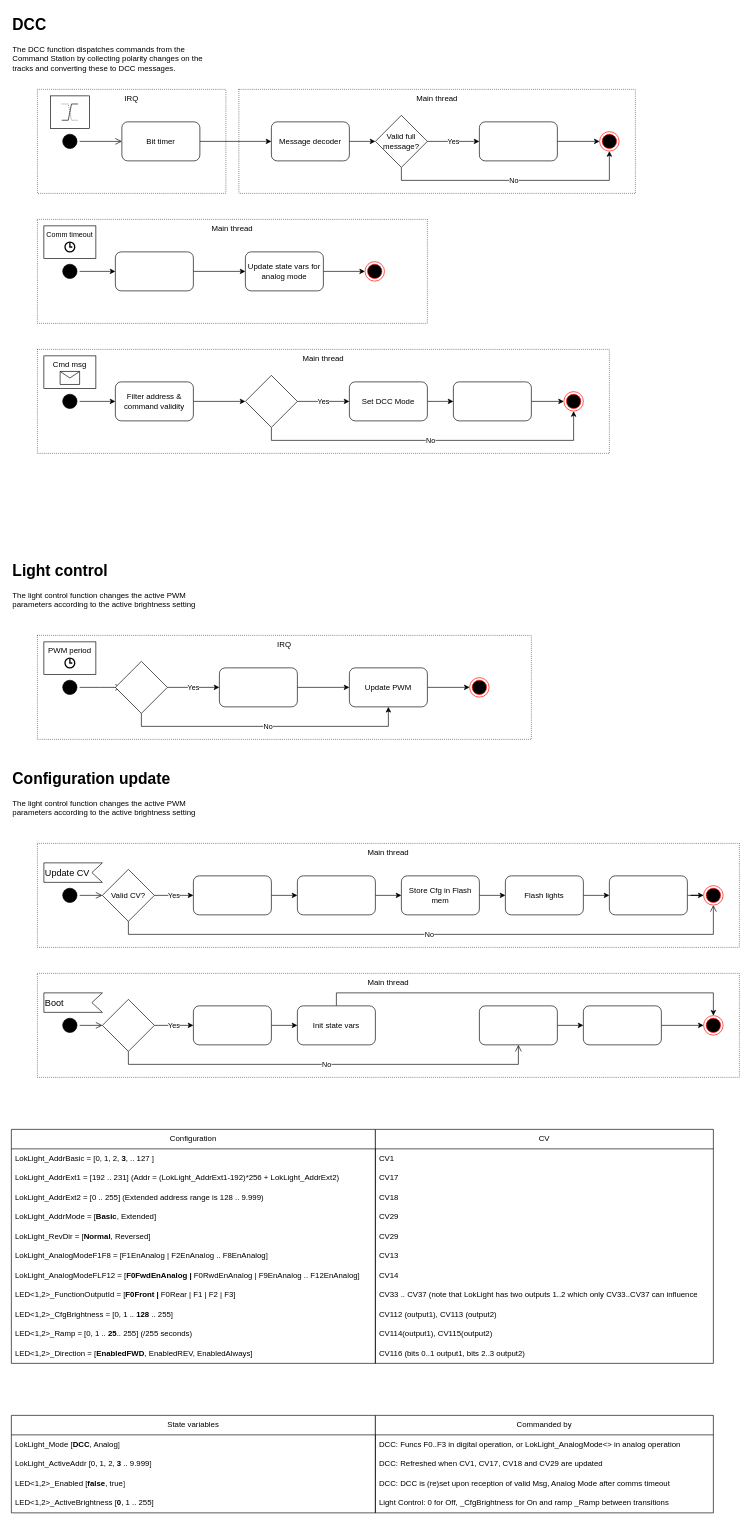
Image size: 751x1524. Some labels were removed from this diagram. The centre of each missing label's shape, as x and y in pixels:
"Disable light control and IRQs" goes at [232,895].
"Dispatch" goes at [518,141].
"Enable IRQs and light control" goes at [648,895].
"Execute command -> update state vars -> write CV" goes at [492,401].
"In transition on/off?" goes at [141,687].
"Reset" goes at [622,1025].
"Set Analog mode" goes at [154,271].
"Store default Cfg in Flash mem" goes at [518,1025].
"Update brightness up/down by ramp function" goes at [258,687].
"Update Cfg RAM" goes at [336,895].
"Update Cfg RAM from Flash" goes at [232,1025].
"Valid cfg?" goes at [128,1025].
"Valid cmd?" goes at [271,401].
